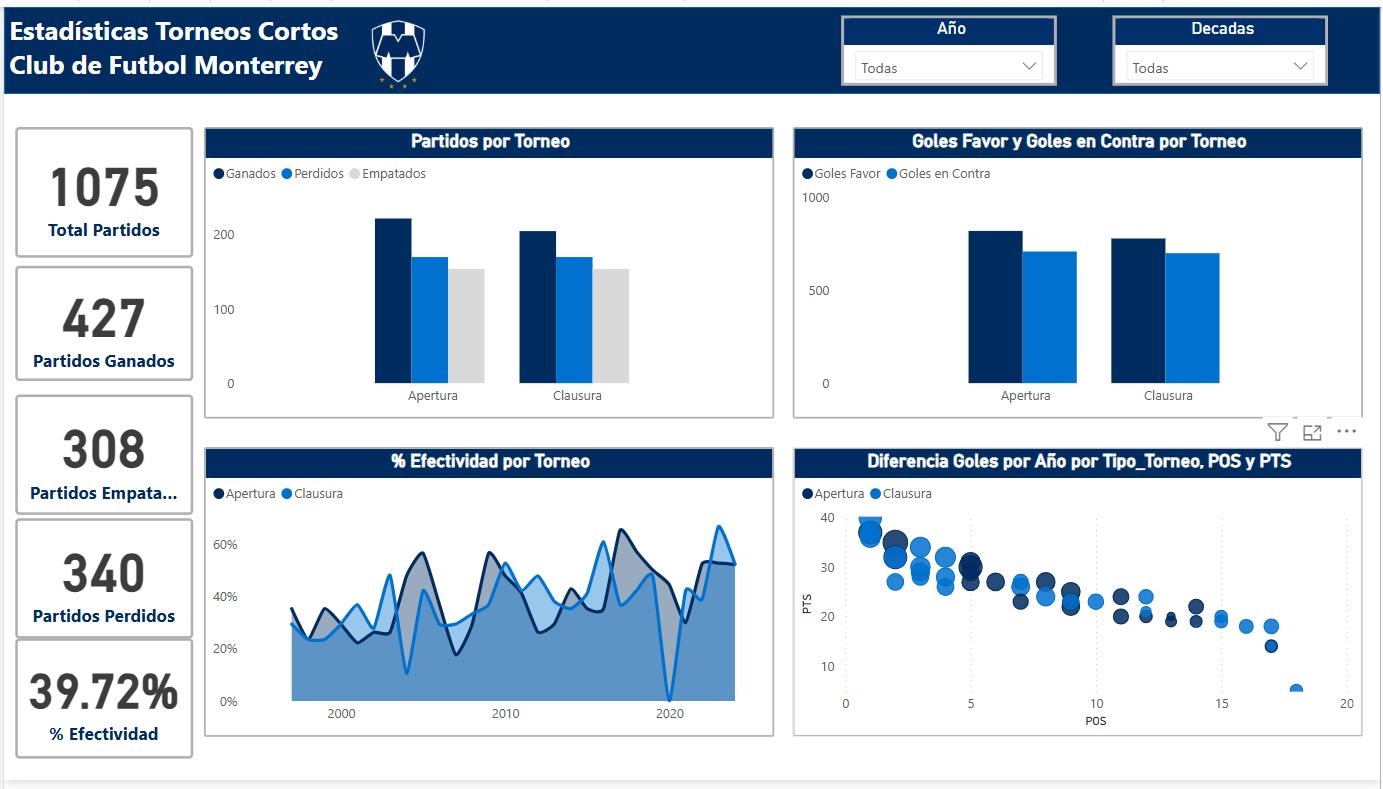

This screenshot's page, from the dashboard's own definition file:
{"tool":"powerbi","page":{"name":"Torneos Cortos","canvas":[1280,720],"ordinal":0},"visuals":[{"type":"shape","box":[0,0,1280,81.2],"z":0},{"type":"slicer","title":"Año","fields":{"Values":["Estadisticas_Rayados_Todo.Año"]},"box":[779.5,8.6,199.6,65],"z":1000},{"type":"slicer","title":"Decadas","fields":{"Values":["Estadisticas_Rayados_Todo.Decadas"]},"box":[1031.6,8.6,199.6,65],"z":2000},{"type":"card","title":"Cantidad Partidos","fields":{"Values":["Medidas.Cantidad Total Partidos por Año"]},"box":[10.5,111.8,165.3,121.3],"z":3000},{"type":"card","title":"Partidos Ganados","fields":{"Values":["Medidas.Cantidad Total Partidos Ganados por Año"]},"box":[10.5,240.7,165.3,107],"z":4000},{"type":"card","title":"Partidos Perdidos","fields":{"Values":["Medidas.Cantidad Total Partidos Empatados por Año"]},"box":[10.5,360.1,165.3,111.8],"z":5000},{"type":"card","title":"Partidos Empatados","fields":{"Values":["Medidas.Cantidad Total Partidos perdidos por Año"]},"box":[10.5,475.7,165.3,111.8],"z":6000},{"type":"card","title":"% Efectividad","fields":{"Values":["Medidas.% Efectividad por Año"]},"box":[10.5,587.5,165.3,111.8],"z":7000},{"type":"clusteredColumnChart","title":"Partidos por Torneo","fields":{"Category":["Estadisticas_Rayados_Todo.Tipo_Torneo"],"Y":["Medidas.Cantidad Total Partidos Ganados por Año","Medidas.Cantidad Total Partidos perdidos por Año","Medidas.Cantidad Total Partidos Empatados por Año"]},"box":[186.3,111.8,530.1,271.3],"z":8000},{"type":"areaChart","title":"% Efectividad por Torneo","fields":{"Category":["Estadisticas_Rayados_Todo.Año"],"Y":["Medidas.% Efectividad por Año"],"Series":["Estadisticas_Rayados_Todo.Tipo_Torneo"]},"box":[186.3,409.8,530.1,269.4],"z":9000},{"type":"clusteredColumnChart","title":"Goles Favor y Goles en Contra por Torneo","fields":{"Category":["Estadisticas_Rayados_Todo.Tipo_Torneo"],"Y":["Medidas.Cantidad Goles Favor por Año","Medidas.Cantidad Goles en Contra por Año"]},"box":[733.6,111.8,530.1,271.3],"z":10000},{"type":"textbox","box":[0,0,429.9,81.2],"z":11000},{"type":"image","box":[327.6,0,78.3,81.2],"z":12000},{"type":"scatterChart","fields":{"X":["Estadisticas_Rayados_Todo.POS"],"Y":["Estadisticas_Rayados_Todo.PTS"],"Size":["Medidas.Diferencia Goles por Año"],"Series":["Estadisticas_Rayados_Todo.Tipo_Torneo"]},"box":[733.6,409.8,530.1,269.4],"z":13000}]}

Visuals, with their boxes in screenshot pixels (x1, y1, x2, y2), scaled from the page's 1280x720 canvas onto the 1383x789 screenshot:
shape: rect(0, 0, 1382, 89)
"Año" slicer: rect(842, 9, 1058, 81)
"Decadas" slicer: rect(1115, 9, 1330, 81)
"Cantidad Partidos" card: rect(11, 123, 190, 255)
"Partidos Ganados" card: rect(11, 264, 190, 381)
"Partidos Perdidos" card: rect(11, 395, 190, 517)
"Partidos Empatados" card: rect(11, 521, 190, 644)
"% Efectividad" card: rect(11, 644, 190, 766)
"Partidos por Torneo" clusteredColumnChart: rect(201, 123, 774, 420)
"% Efectividad por Torneo" areaChart: rect(201, 449, 774, 744)
"Goles Favor y Goles en Contra por Torneo" clusteredColumnChart: rect(793, 123, 1365, 420)
textbox: rect(0, 0, 464, 89)
image: rect(354, 0, 439, 89)
scatterChart - Estadisticas_Rayados_Todo.POS x Estadisticas_Rayados_Todo.PTS: rect(793, 449, 1365, 744)
